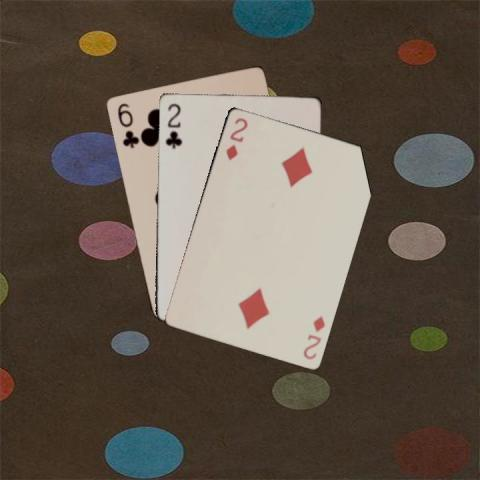2c: (162, 100, 183, 150)
2d: (300, 312, 327, 361), (222, 115, 248, 161)
6c: (114, 100, 139, 149)
